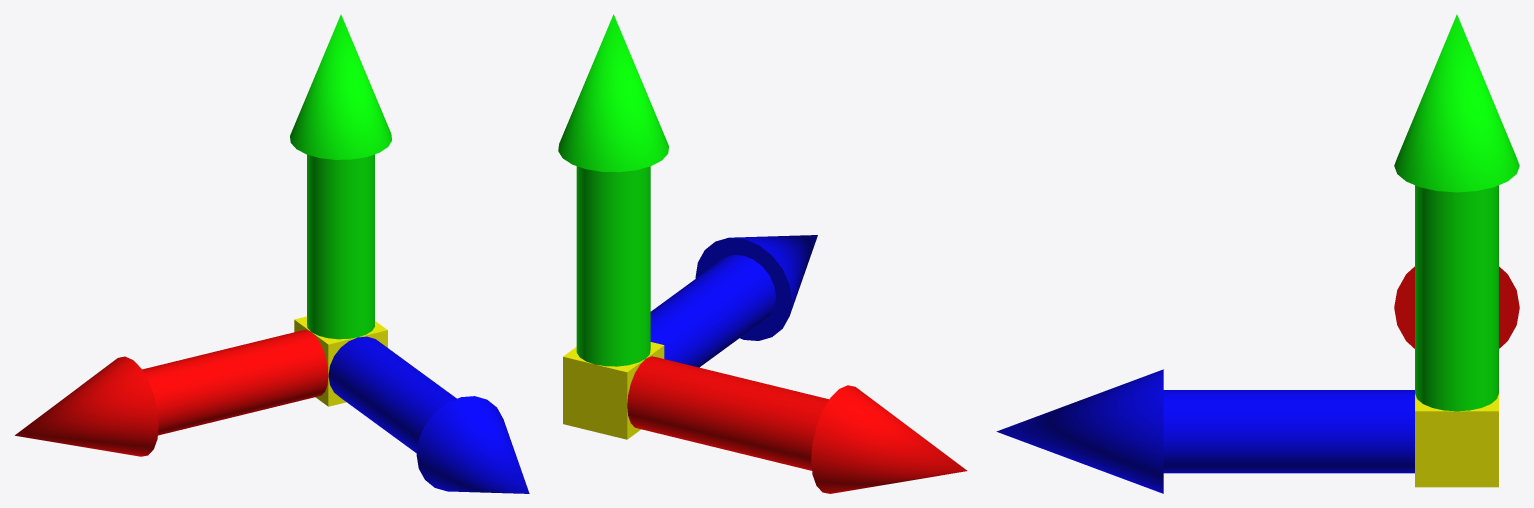
File: WorldSign.fbx
The picture shows the model from 3 angles, left to right: view 1: azimuth 30°, elevation 25°; view 2: azimuth 150°, elevation 25°; view 3: azimuth 270°, elevation 25°; orthographic projection. The views are drawn at different scales.
Parts seen in each view (by area): view 1: WorldSign; view 2: WorldSign; view 3: WorldSign.
Part boxes in pixels (x1,y1,x2,y2): WorldSign: [15, 14, 529, 493]; WorldSign: [558, 14, 967, 493]; WorldSign: [996, 14, 1519, 493].
Size of the model in its own units: 6.25 by 6.25 by 6.25.
